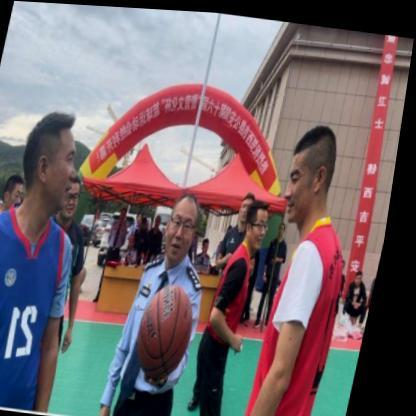basketball: (139, 280, 210, 381)
